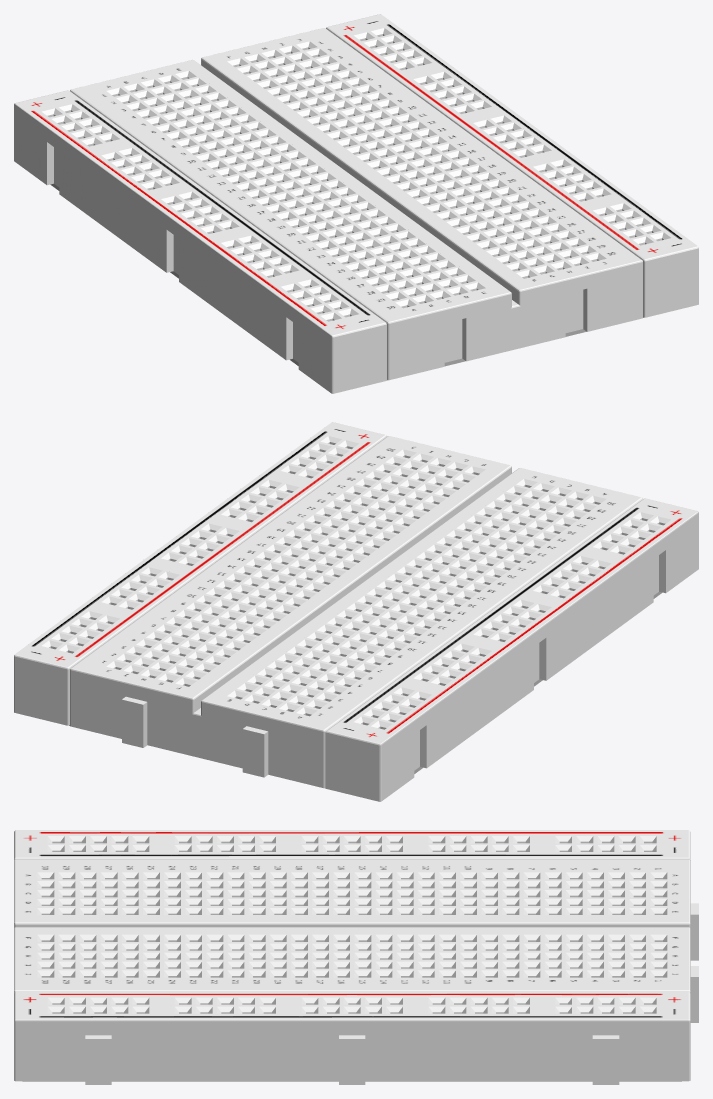
The model's file is breadboard.glb.
3 views of the same model, one above another, from view 1: azimuth 30°, elevation 25°; view 2: azimuth 150°, elevation 25°; view 3: azimuth 270°, elevation 25° (orthographic). The views are drawn at different scales.
Visible parts, largest first — view 1: Breadboard; view 2: Breadboard; view 3: Breadboard, Adhesive.
Boxes of the visible parts, bbox=[...] form: Breadboard: bbox=[14, 14, 698, 393]; Breadboard: bbox=[14, 422, 698, 801]; Breadboard: bbox=[14, 830, 698, 1084]; Adhesive: bbox=[22, 1081, 681, 1081].
Size of the model in its own units: 0.0542 by 0.0085 by 0.081.
Materials: 3 (1 with a texture image).
